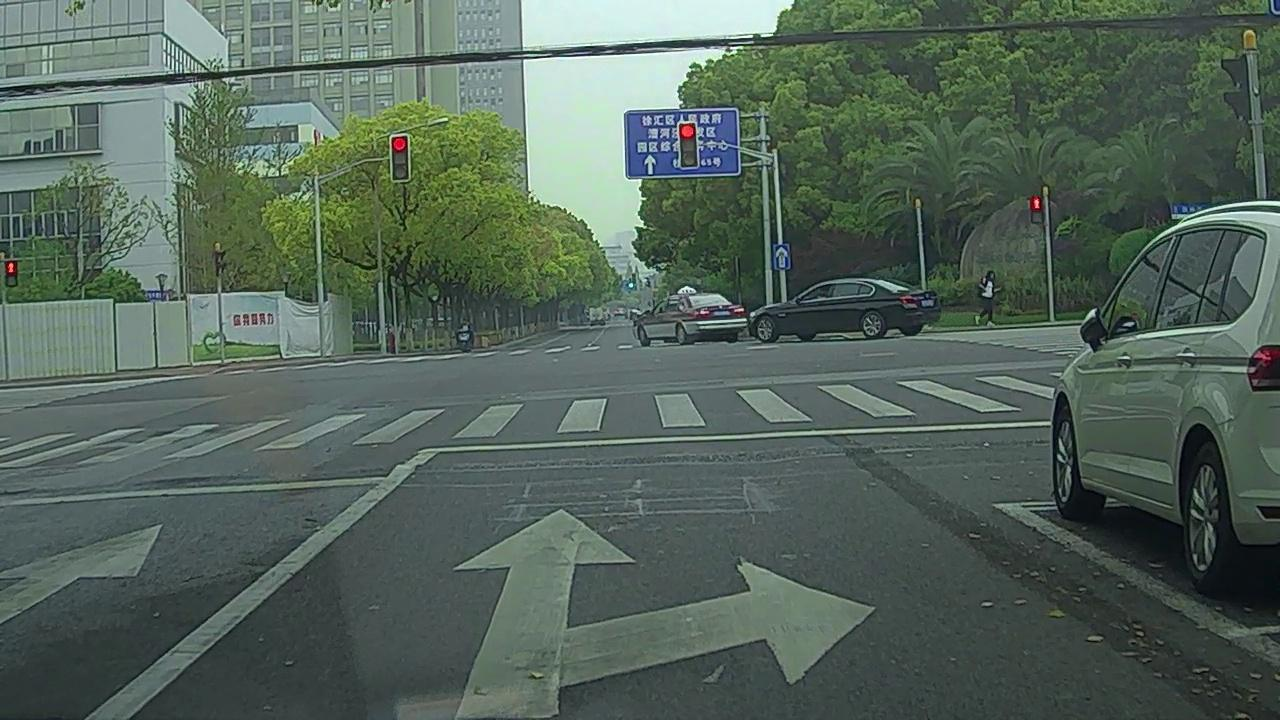traffic_light: (390, 136, 410, 181), (678, 123, 698, 167)
